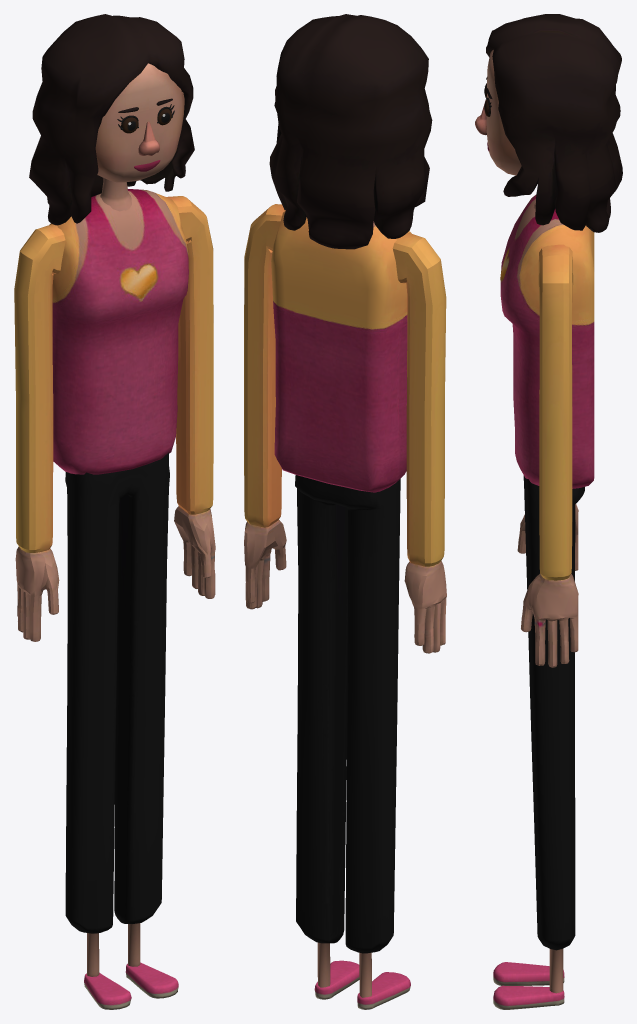
File: Lisa.obj
3 renders of one model, left to right at view 1: azimuth 30°, elevation 25°; view 2: azimuth 150°, elevation 25°; view 3: azimuth 270°, elevation 25°, orthographic.
Parts seen in each view (by area): view 1: Body; view 2: Body; view 3: Body.
Part boxes in pixels (x1,y1,x2,y2): Body: [14, 14, 215, 1009]; Body: [244, 14, 446, 1009]; Body: [475, 14, 622, 1009].
Size of the model in its own units: 0.3804 by 1.81 by 0.2498.
Materials: 1 (1 with a texture image).
